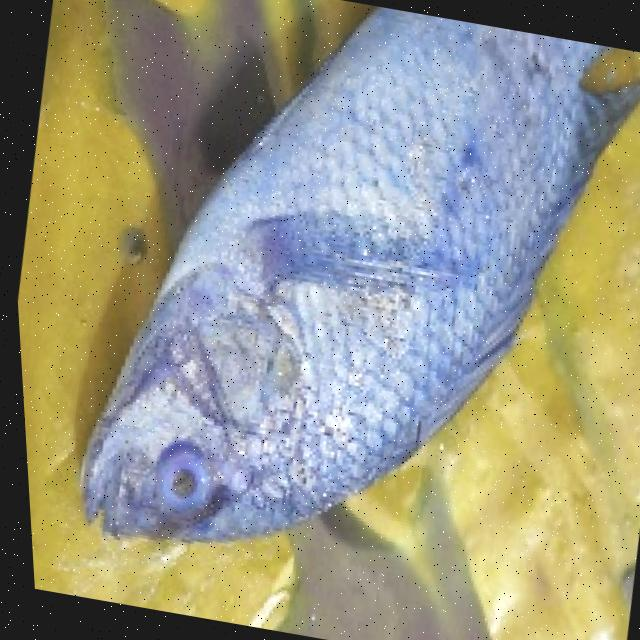Non-Fresh: (23, 86, 541, 614)
